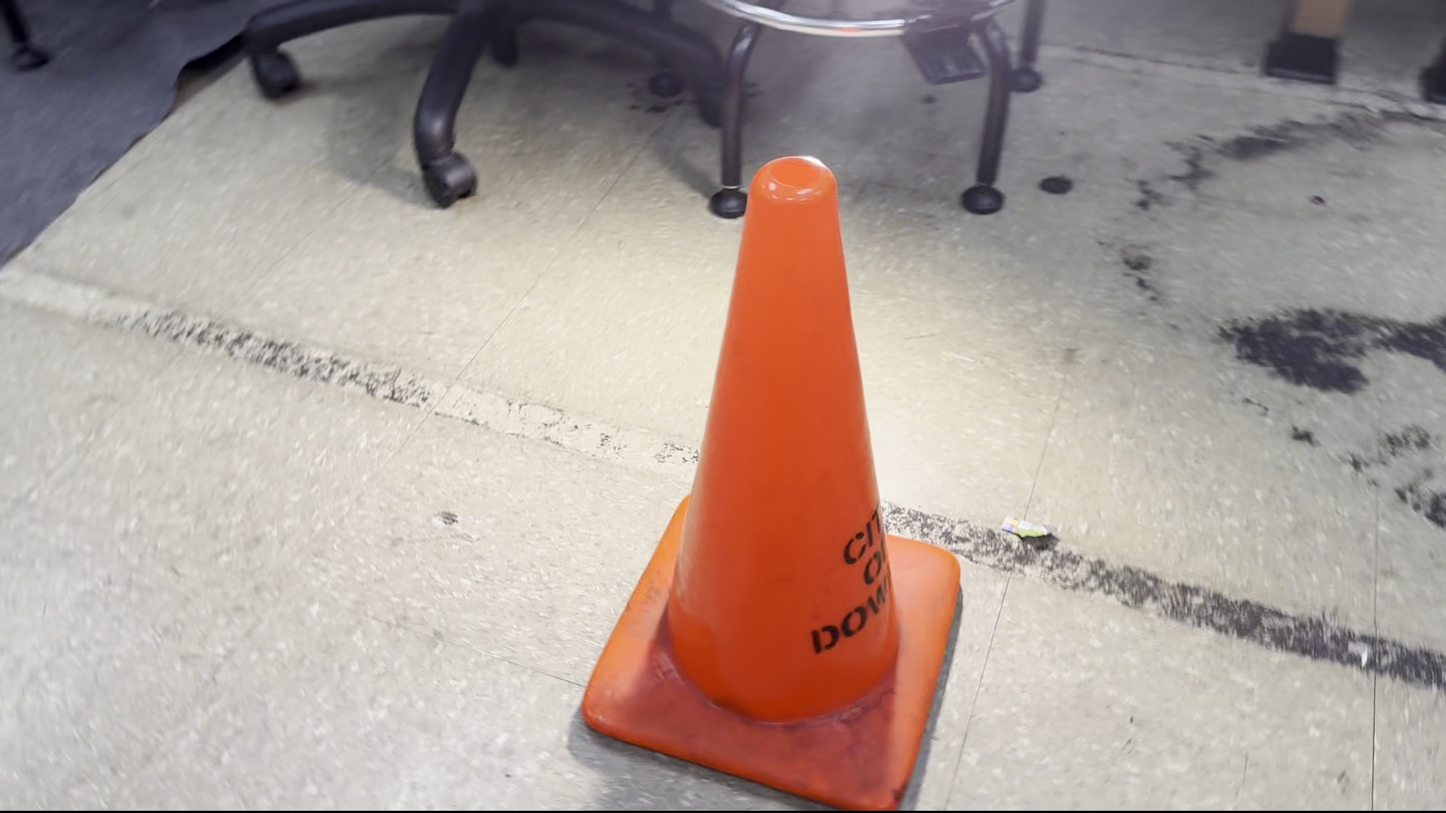traffic_cone: (580, 153, 962, 811)
